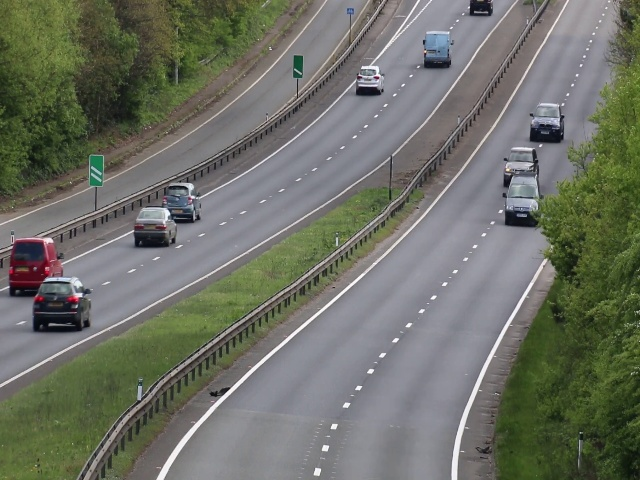car: (33, 277, 93, 333), (10, 238, 66, 293), (506, 176, 541, 228), (134, 207, 179, 246), (503, 144, 540, 189), (529, 100, 566, 144), (164, 182, 200, 221), (421, 28, 455, 69), (358, 64, 386, 94), (467, 1, 494, 17)
